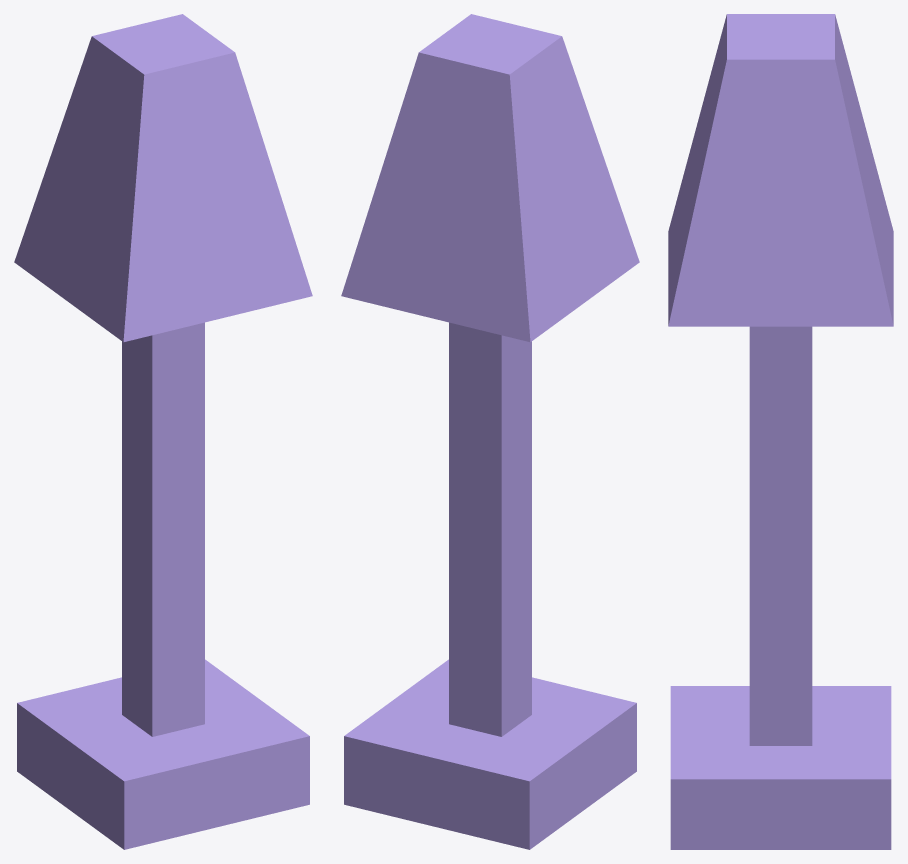
3 renders of one model, left to right at view 1: azimuth 30°, elevation 25°; view 2: azimuth 150°, elevation 25°; view 3: azimuth 270°, elevation 25°, orthographic. The views are drawn at different scales.
Visible parts, largest first — view 1: Oj5_4; view 2: Oj5_4; view 3: Oj5_4.
Boxes of the visible parts, left/top/right/bottom form: Oj5_4: left=14, top=14, right=312, bottom=849; Oj5_4: left=341, top=14, right=639, bottom=849; Oj5_4: left=668, top=14, right=893, bottom=849.
Size of the model in its own units: 0.5787 by 2.17 by 0.5787.
1 material, 1 textured.
